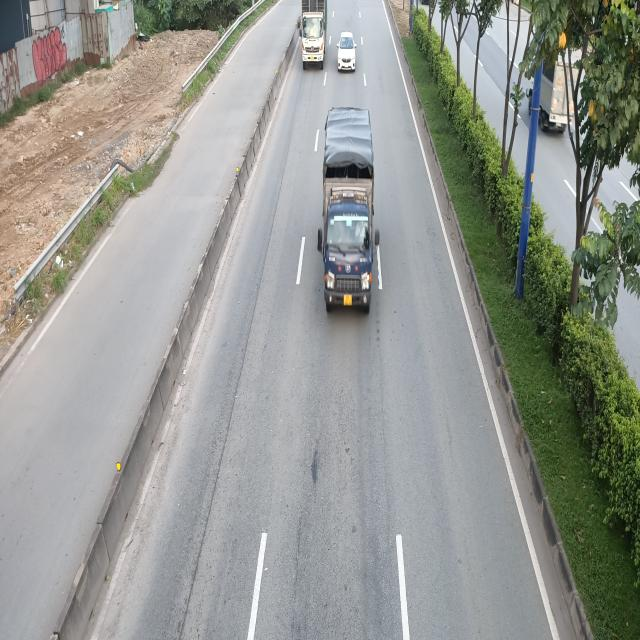car: (338, 32, 358, 74)
truck: (318, 107, 380, 315), (296, 0, 327, 68)
